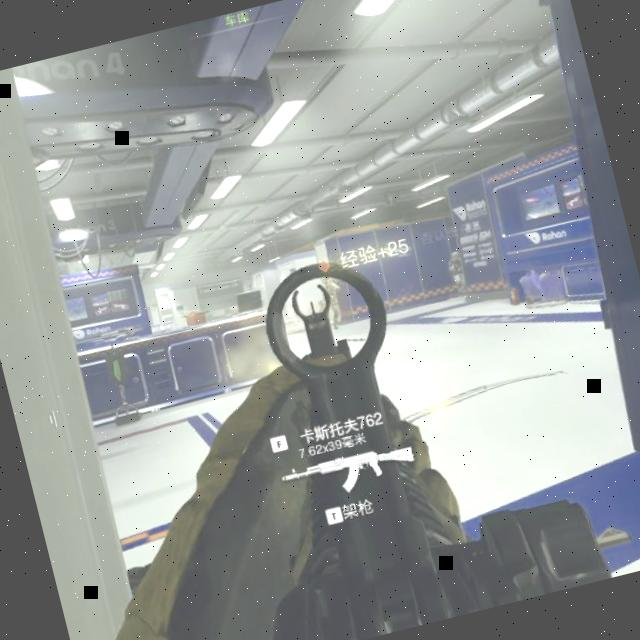MW2_body: (310, 258, 350, 332), (445, 250, 469, 298)
